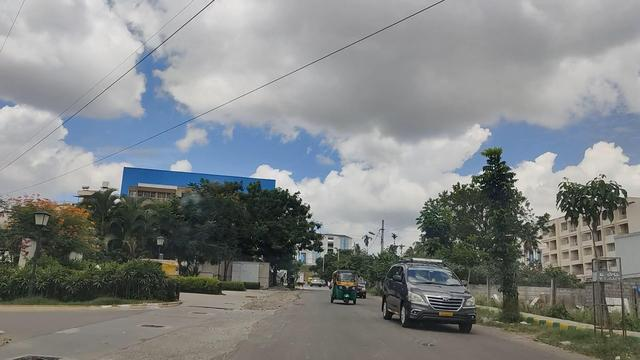RoadDamages: (196, 314, 275, 360), (239, 289, 319, 318), (399, 330, 450, 358)
